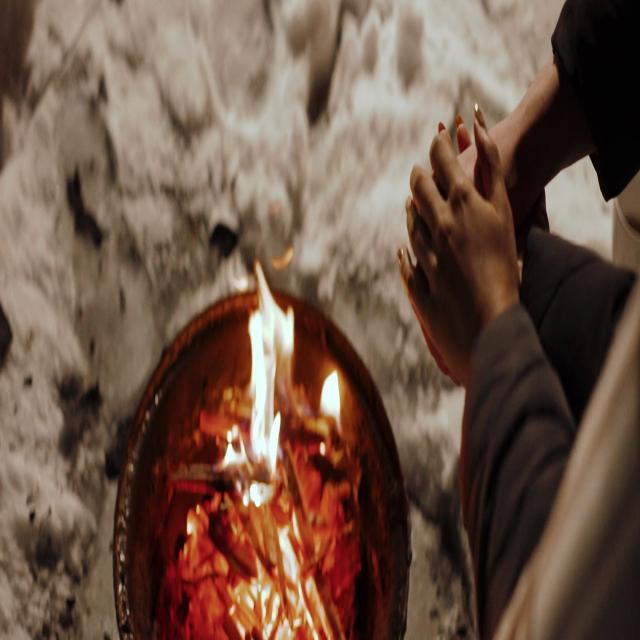Fire: (219, 264, 345, 640)
